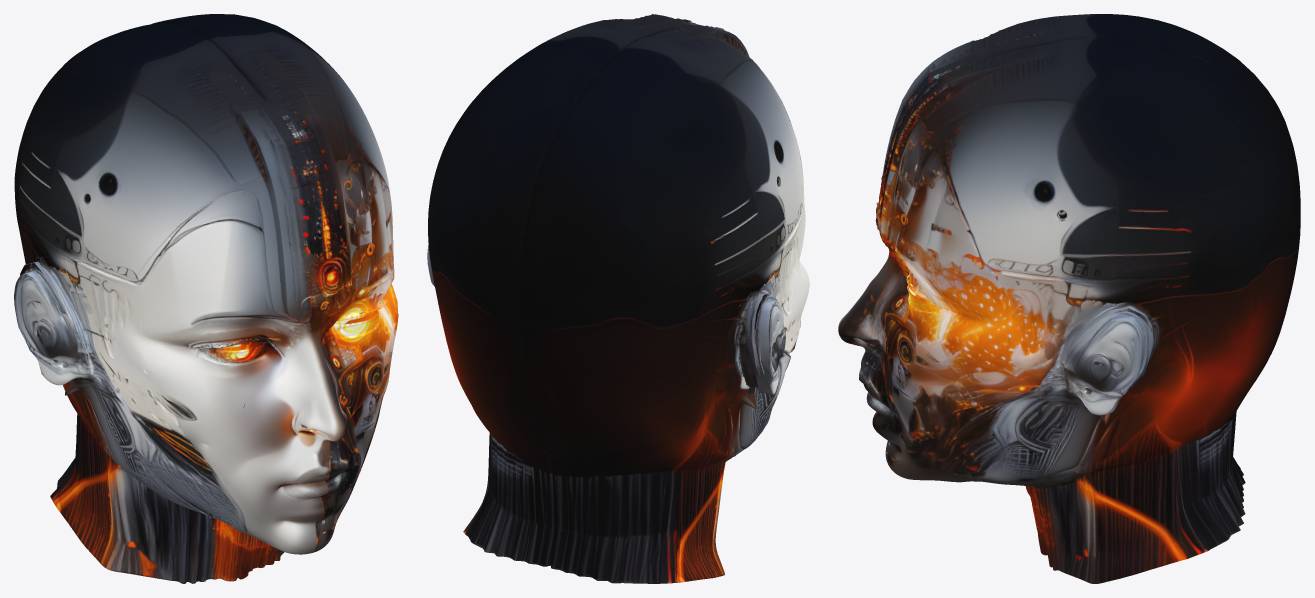
Rendered from Robot_footer.glb.
3 views of the same model, side by side, from view 1: azimuth 30°, elevation 25°; view 2: azimuth 150°, elevation 25°; view 3: azimuth 270°, elevation 25° (orthographic).
Visible parts, largest first — view 1: geometry_0; view 2: geometry_0; view 3: geometry_0.
Part boxes in pixels (x1=…): geometry_0: x1=14, y1=14, x2=398, y2=583; geometry_0: x1=427, y1=14, x2=809, y2=583; geometry_0: x1=838, y1=14, x2=1300, y2=583.
Size of the model in its own units: 1.31 by 1.9 by 1.55.
1 material, 1 textured.
